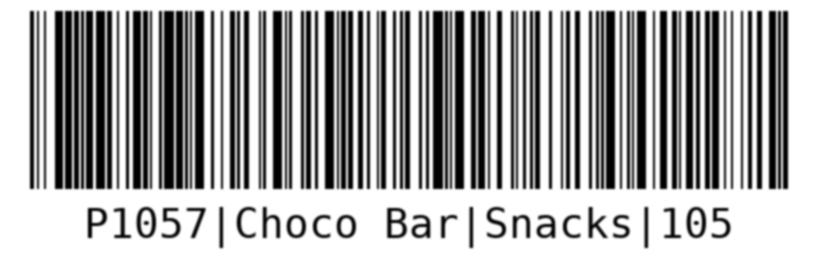milk: (25, 6, 792, 243)
